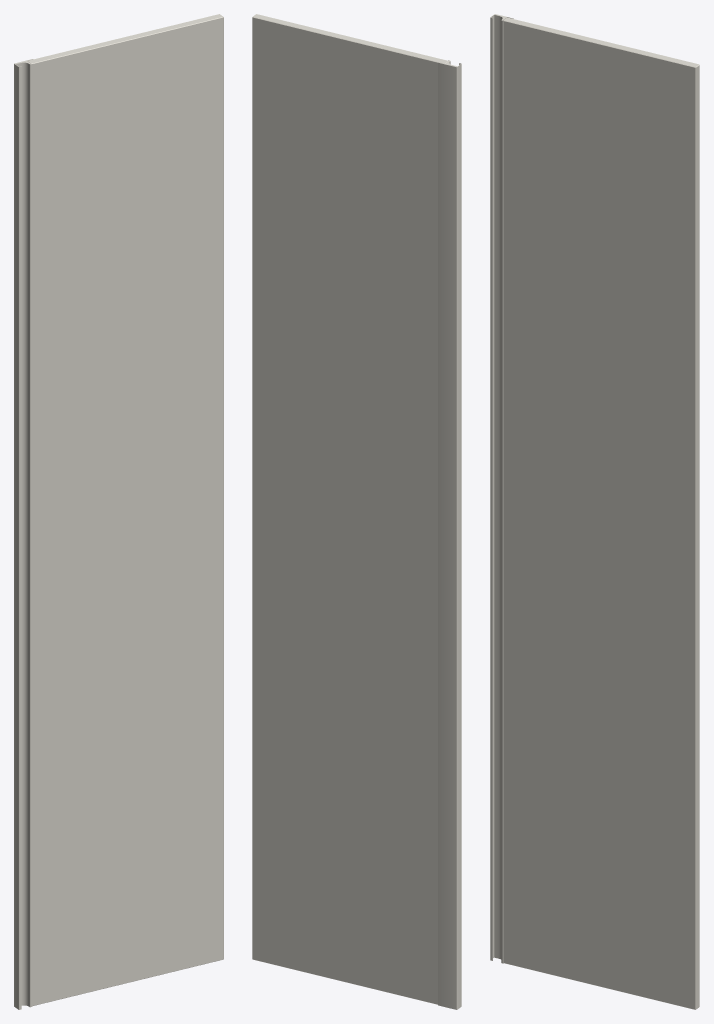
File: caib13203.gltf
3 renders of one model, left to right at view 1: azimuth 30°, elevation 25°; view 2: azimuth 150°, elevation 25°; view 3: azimuth 330°, elevation 25°, orthographic.
Parts seen in each view (by area): view 1: CAIB13203, HANDLE_01; view 2: CAIB13203, HANDLE_01; view 3: CAIB13203, HANDLE_01.
Part boxes in pixels (bbox=[...]): CAIB13203: bbox=[27, 14, 223, 1005]; HANDLE_01: bbox=[14, 59, 32, 1009]; CAIB13203: bbox=[252, 14, 448, 1004]; HANDLE_01: bbox=[438, 60, 461, 1009]; CAIB13203: bbox=[503, 17, 699, 1009]; HANDLE_01: bbox=[490, 14, 513, 963].
Size of the model in its own units: 0.495 by 2.17 by 0.021.
3 materials, 3 textured.
